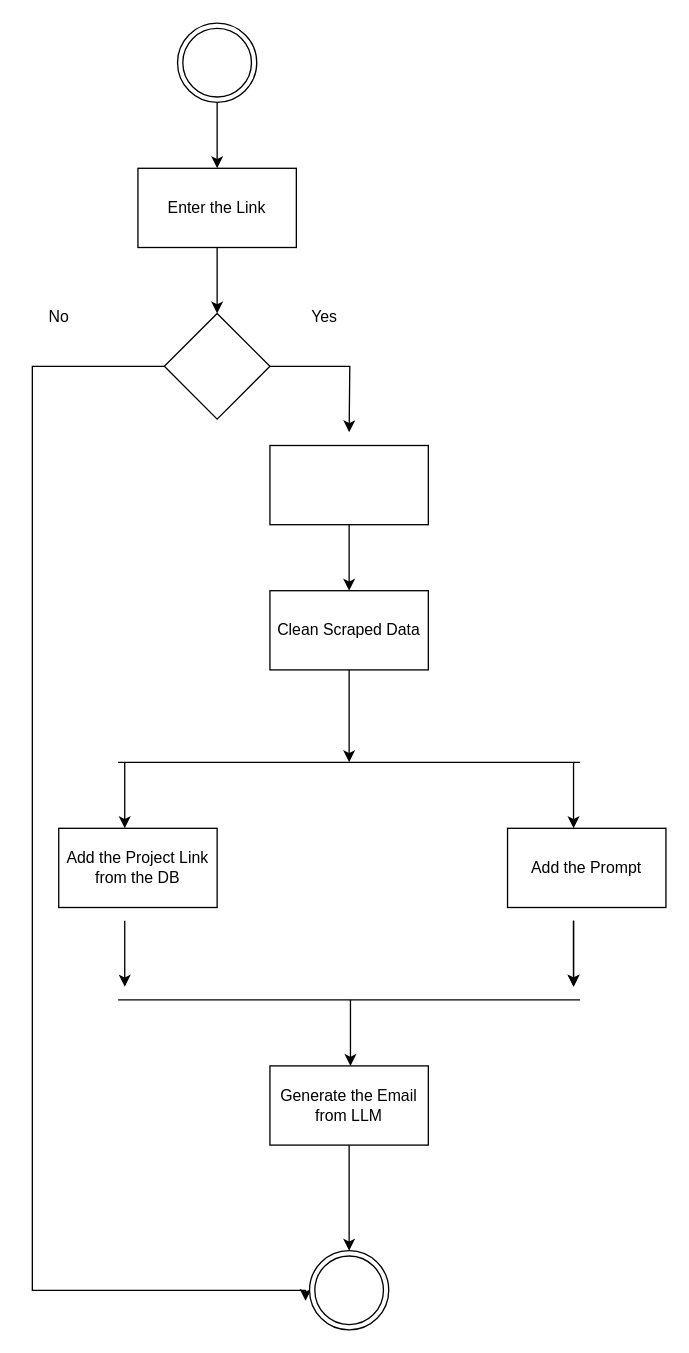
Some shapes in this 689 by 1353 pixel diagram are drawn without their labels. Here are the shapes that lost their labels. From the top down, the centre of each, then its label:
the point at 216,365: Link Valid
the point at 348,484: Scrape the Project Detail
